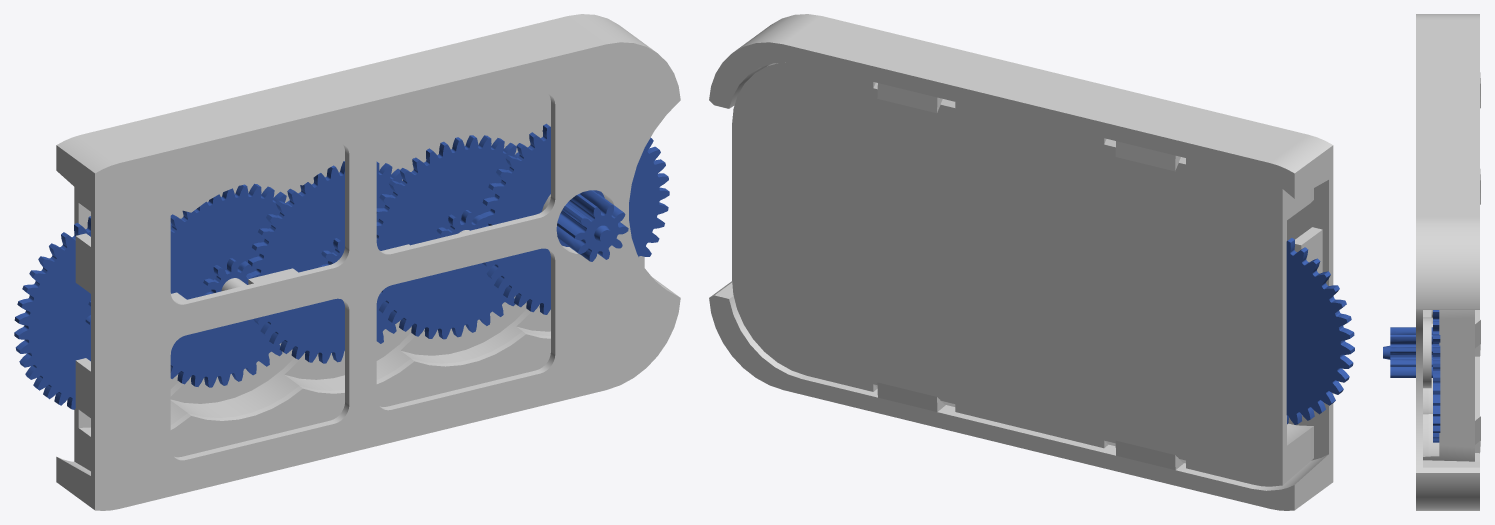
The model's file is jmcpheron-card.glb.
3 views of the same model, side by side, from view 1: azimuth 30°, elevation 25°; view 2: azimuth 150°, elevation 25°; view 3: azimuth 270°, elevation 25° (orthographic). The views are drawn at different scales.
Visible parts, largest first — view 1: Part 1 (×2), Spur gear (40 teeth) (×5); view 2: Part 1 (×2), Spur gear (40 teeth); view 3: Part 1 (×2), Spur gear (40 teeth).
Boxes of the visible parts, bbox=[...] form: Part 1 (×2): bbox=[56, 14, 680, 510]; Spur gear (40 teeth) (×5): bbox=[14, 123, 669, 409]; Part 1 (×2): bbox=[709, 14, 1333, 510]; Spur gear (40 teeth): bbox=[1286, 238, 1354, 424]; Part 1 (×2): bbox=[1416, 14, 1480, 510]; Spur gear (40 teeth): bbox=[1383, 310, 1440, 442].
Size of the model in its own units: 0.0853 by 0.0444 by 0.0137.
